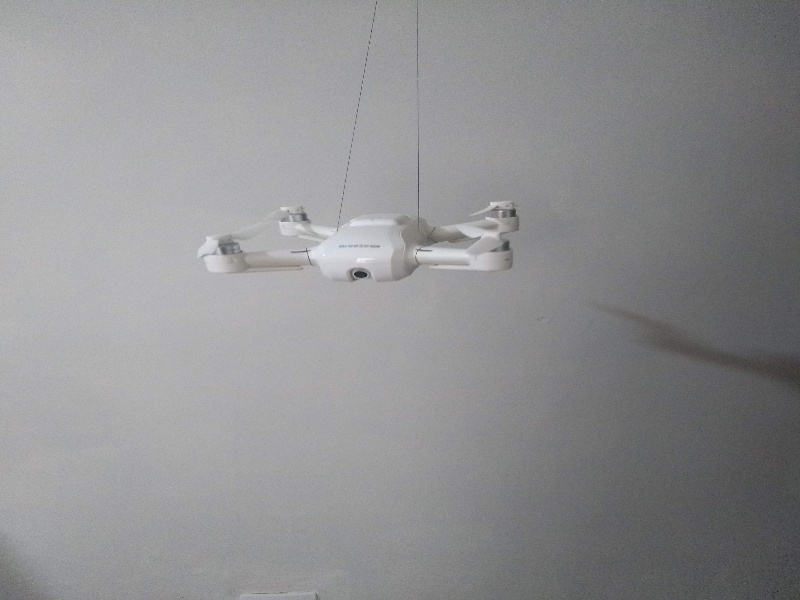drone: (192, 196, 532, 293)
